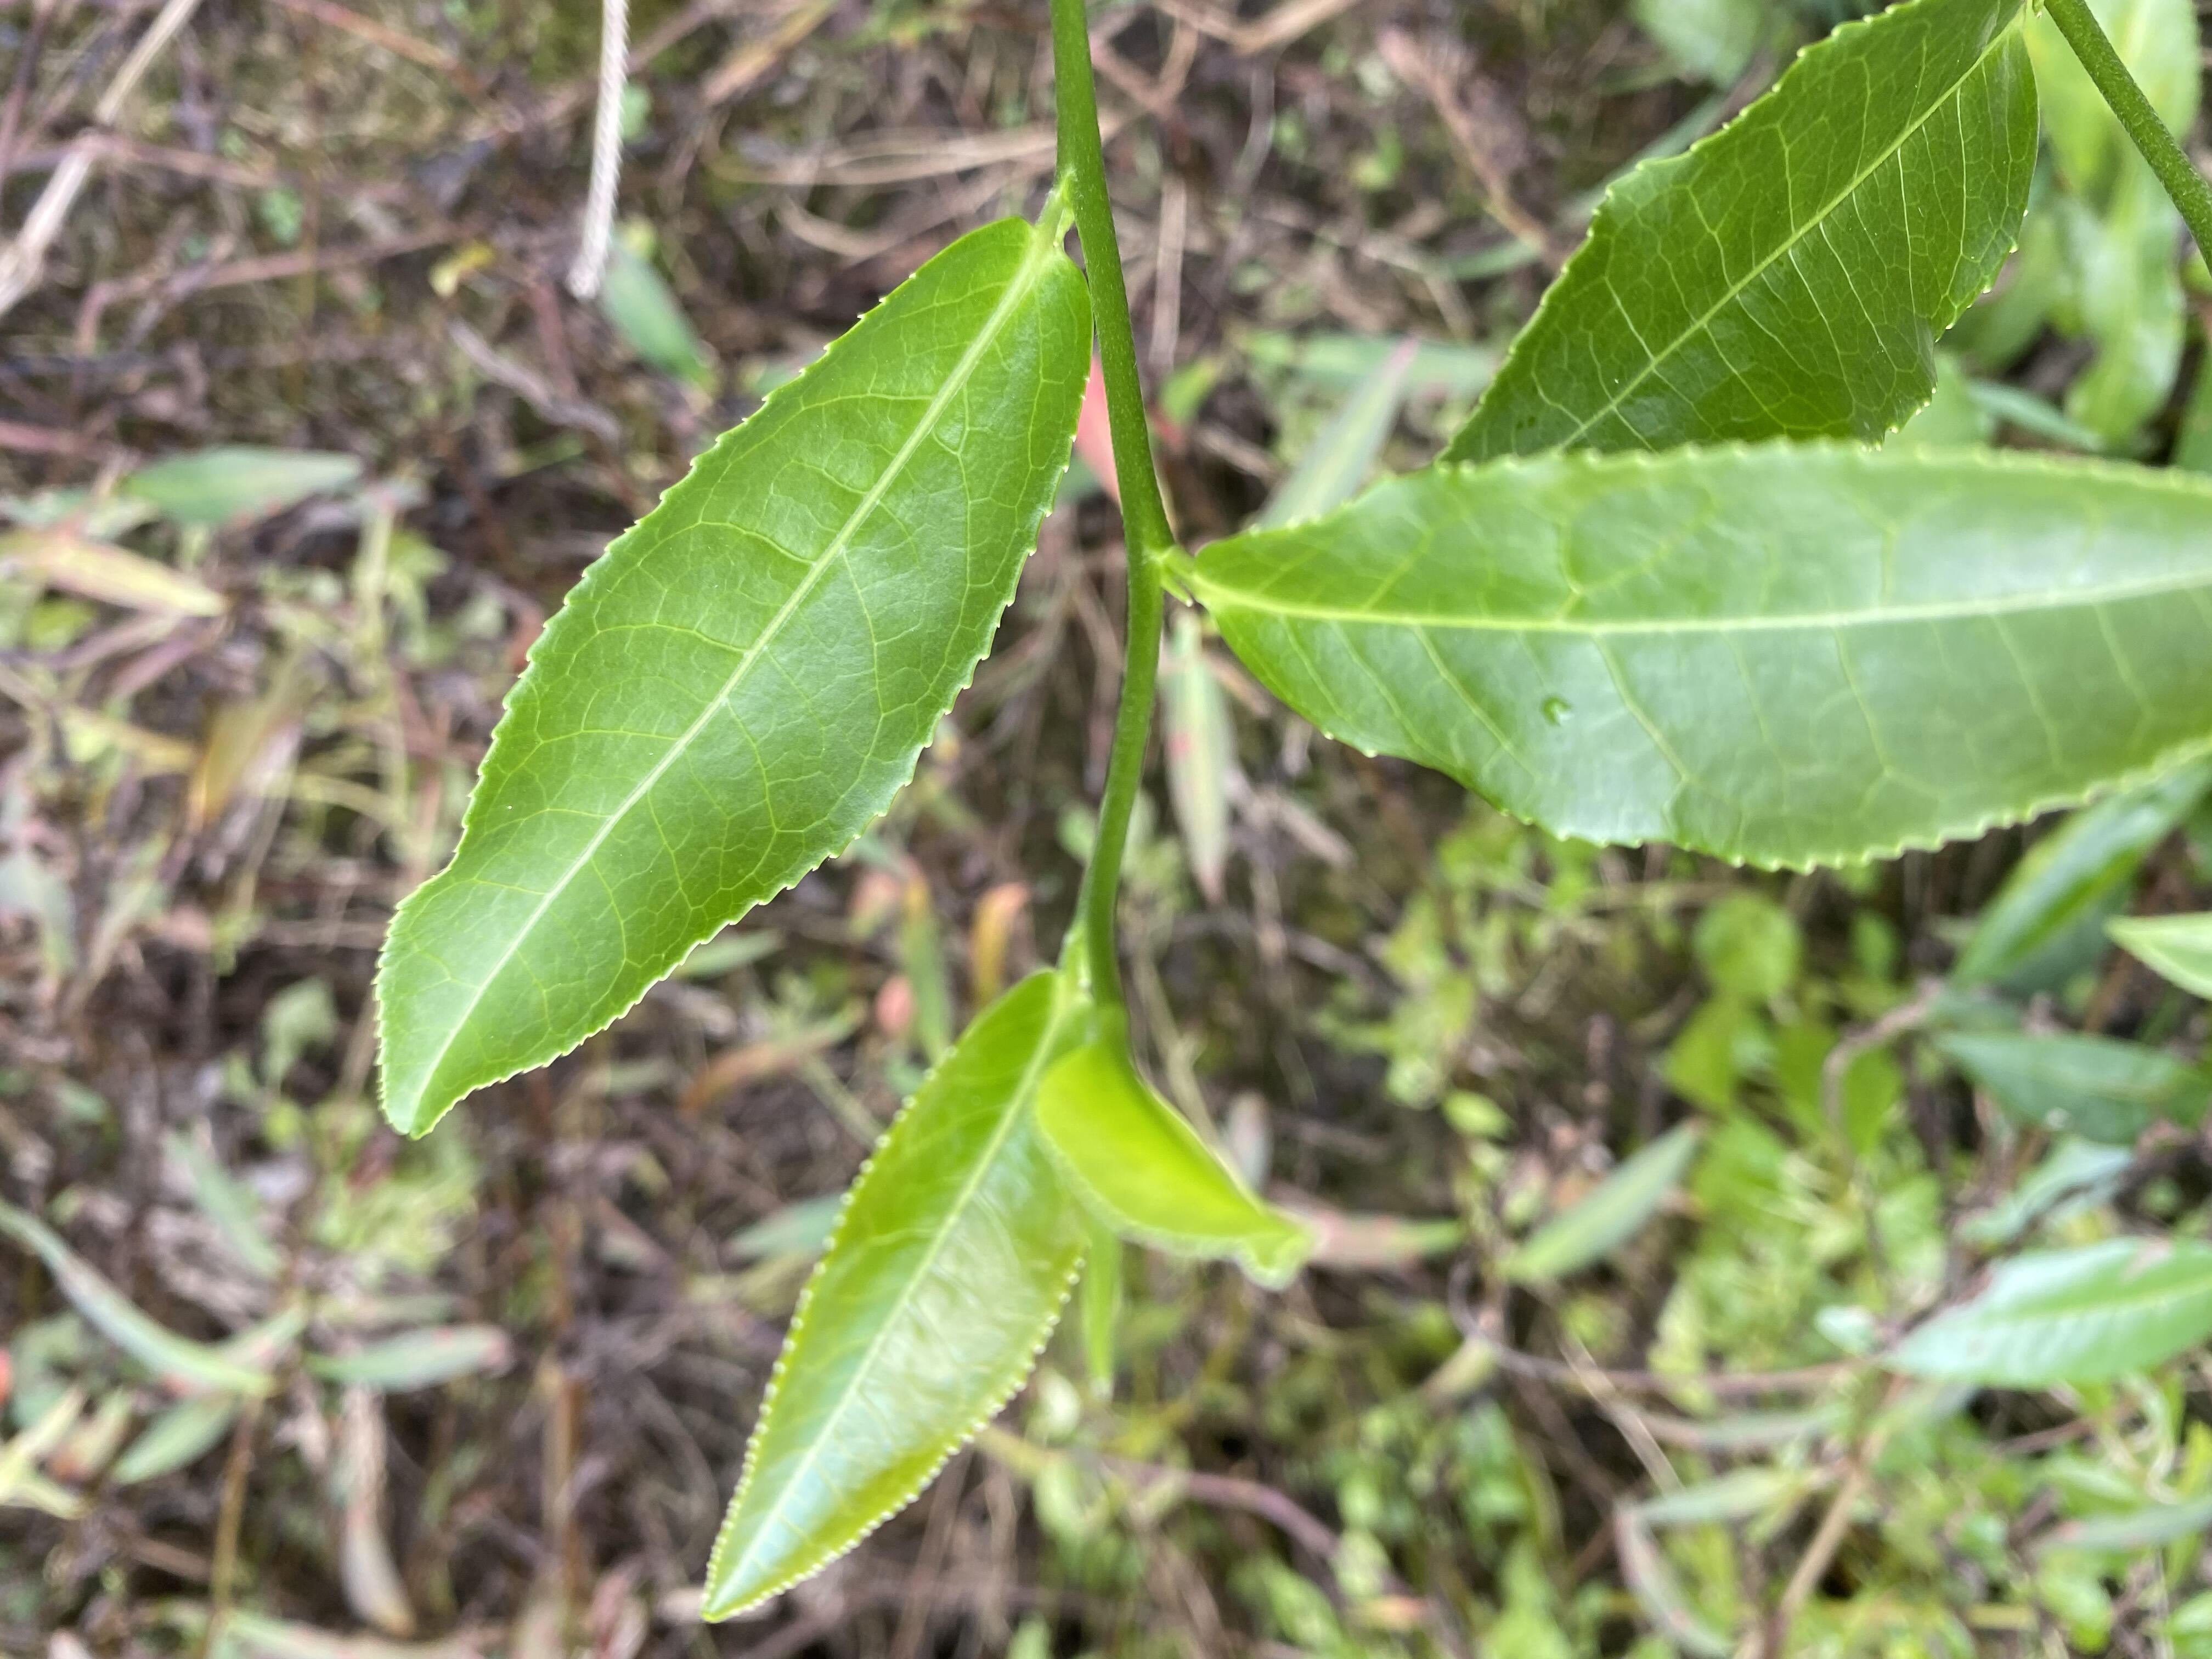healthy: (368, 218, 1094, 1145), (1193, 439, 2209, 884), (1432, 2, 2040, 462), (695, 967, 1097, 1626)
